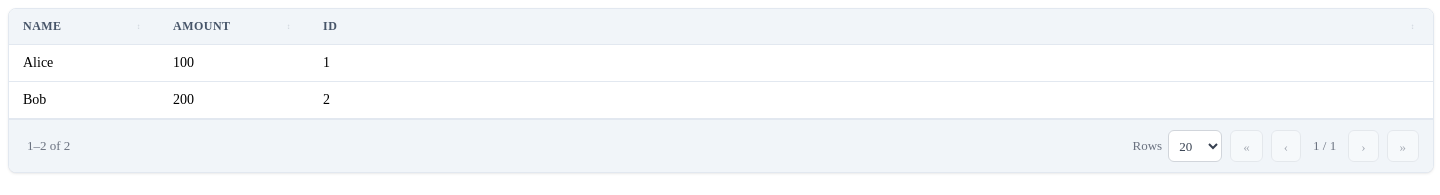
Inline cell editing › committing › Enter key commits and hides the input
This screenshot has width=1440, height=195.
Double-click the cell "Alice" at [84, 63], box [9, 44, 159, 82]
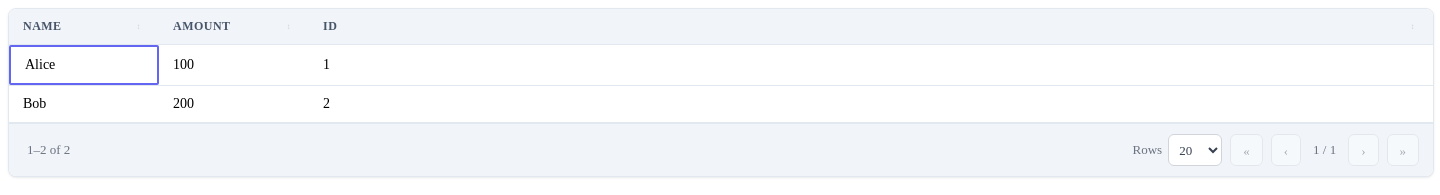
Replace the text in the field named "Edit Name" with "Alice Updated" at [84, 65], box [9, 45, 159, 85]
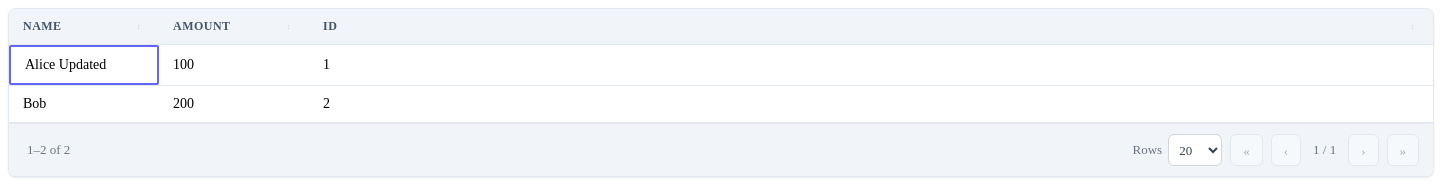
Press Enter in the field named "Edit Name", box [9, 45, 159, 85]
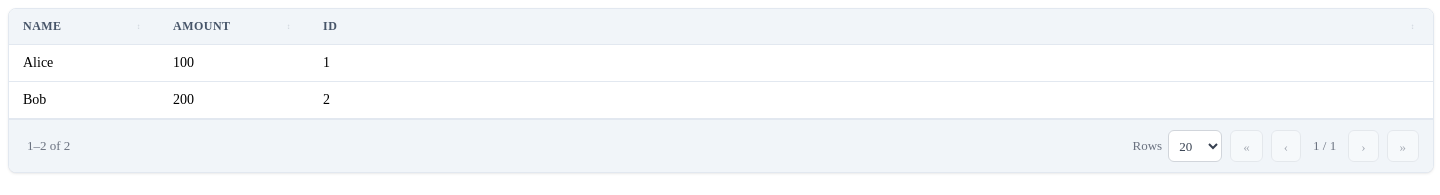
Check: the field is gone
